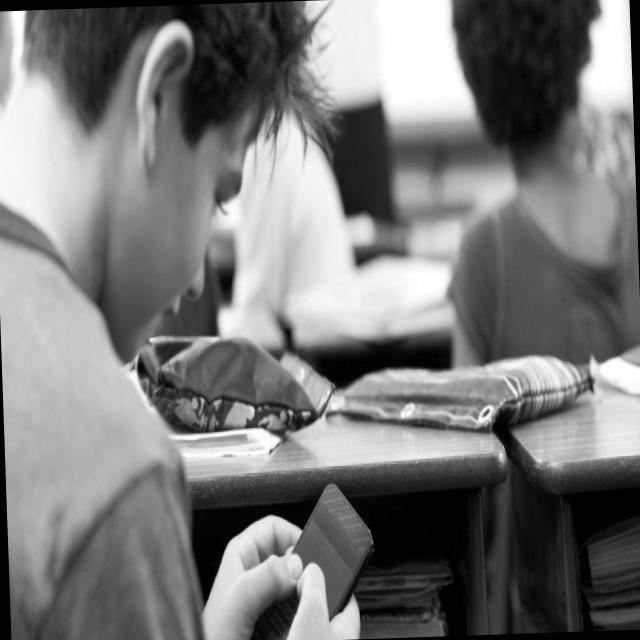phone: (243, 480, 377, 640)
